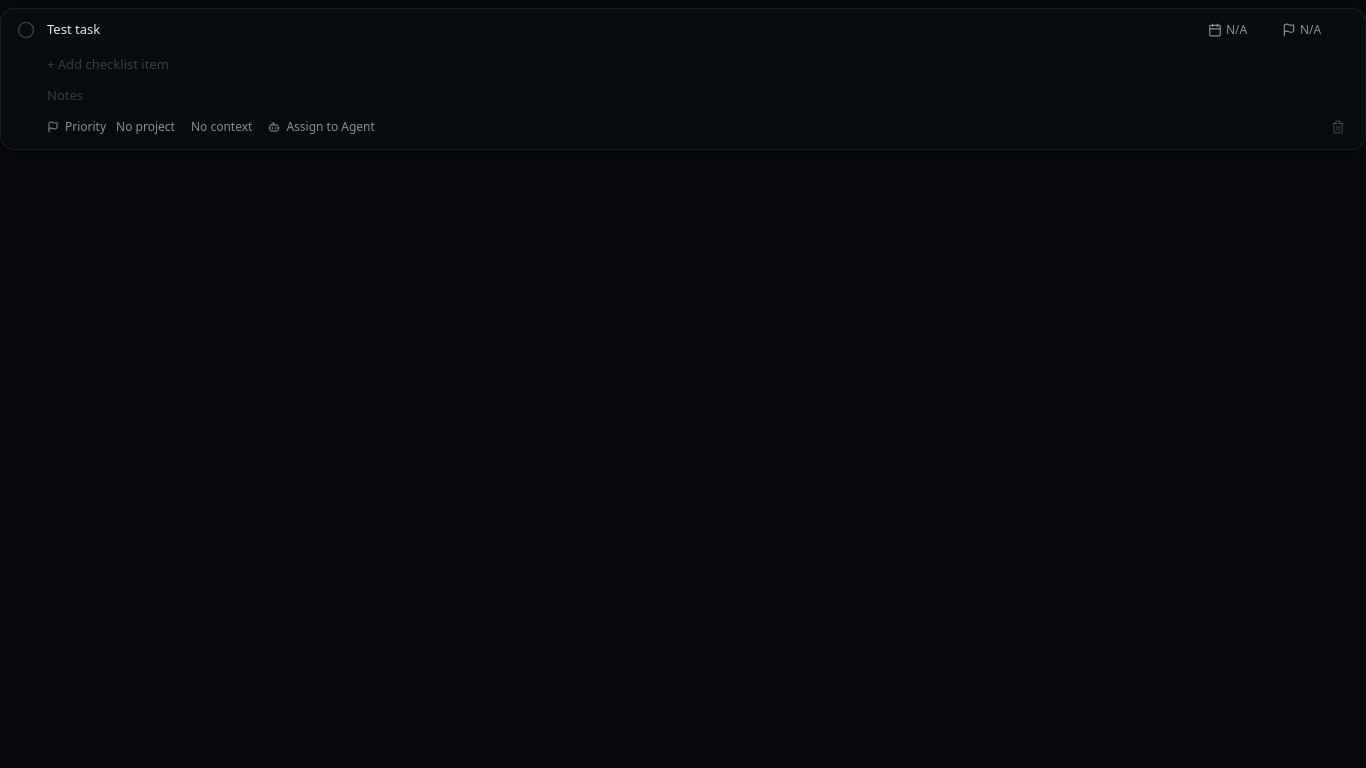
Test: TaskItem project picker (expanded) › only shows active projects in picker (not completed/archived)
Click the button "No project": (146, 127) x1=110 y1=115 x2=181 y2=139
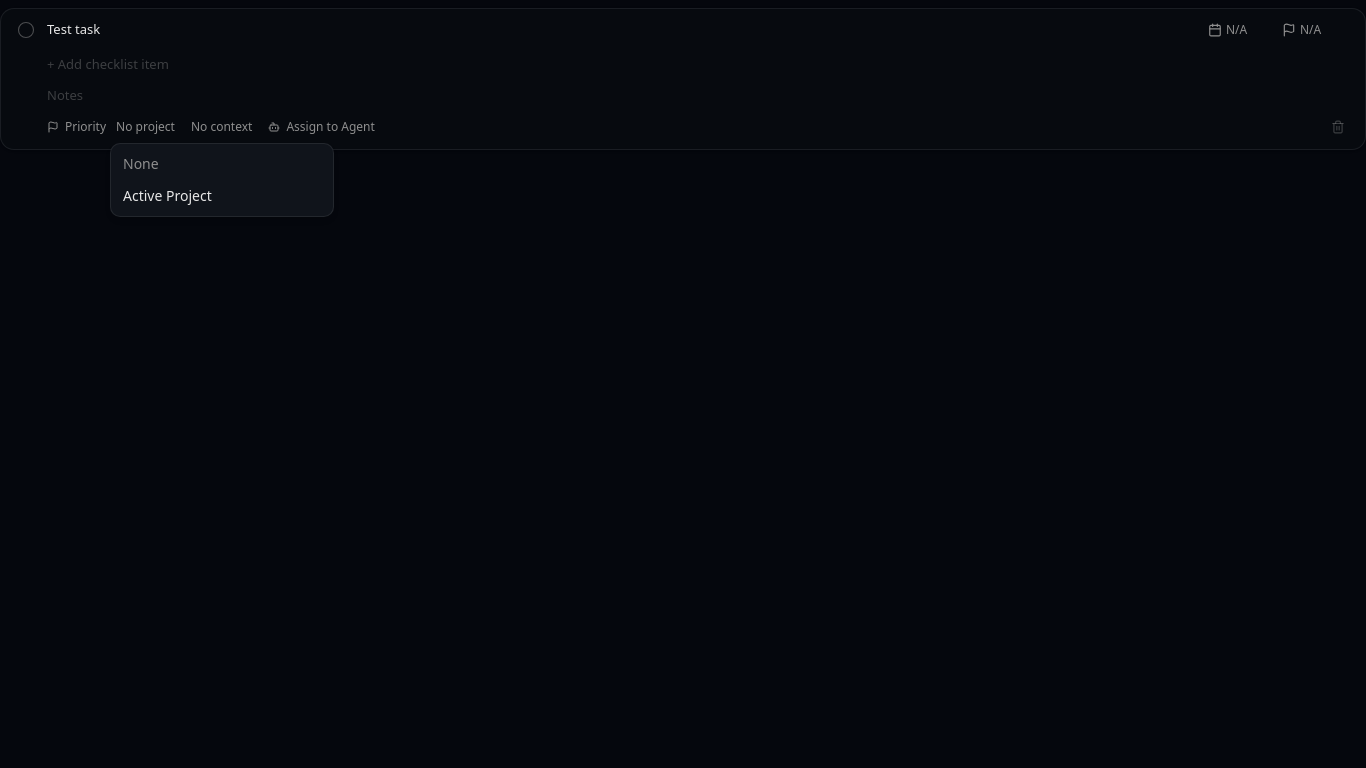
Expected: the text "Active Project" is shown, x1=123 y1=186 x2=212 y2=206
